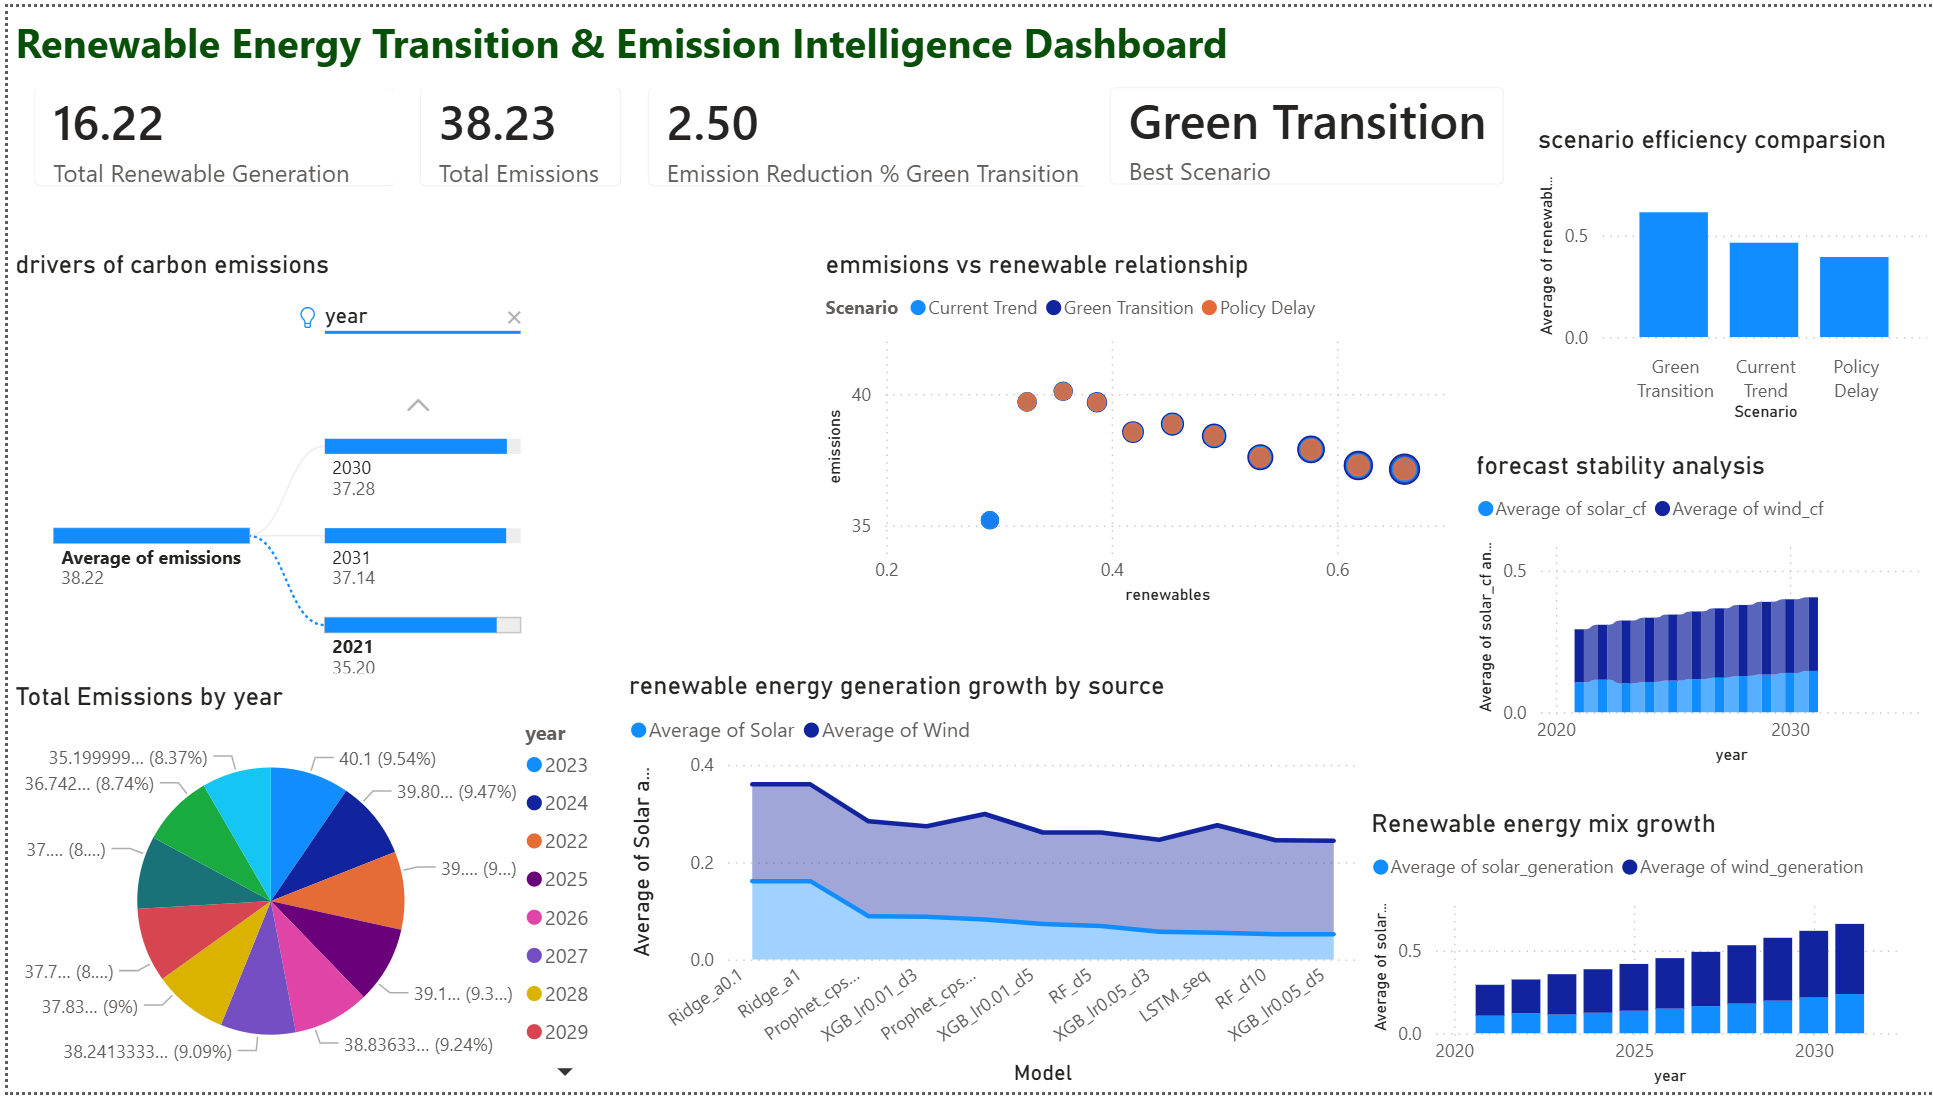

What the dashboard file says about the page in this screenshot:
{"tool":"powerbi","page":{"name":"Page 1","canvas":[1280,720],"ordinal":0},"visuals":[{"type":"cardVisual","fields":{"Data":["current_trend_forecast.Total Renewable Generation"]},"box":[0,36,274,100],"z":0},{"type":"cardVisual","fields":{"Data":["current_trend_forecast.Total Emissions"]},"box":[256,36,168,100],"z":1000},{"type":"columnChart","title":"Renewable energy mix growth","fields":{"Category":["current_trend_forecast.year"],"Y":["Avg(current_trend_forecast.solar_generation)","Avg(current_trend_forecast.wind_generation)"]},"box":[925.6,532.2,344.4,187.8],"z":2000},{"type":"scatterChart","title":"emmisions vs renewable relationship","fields":{"X":["current_trend_forecast.renewables"],"Y":["current_trend_forecast.emissions"],"Series":["powerbi.Scenario"],"Size":["Avg(powerbi.solar_generation)"]},"box":[538,160,432,240],"z":3000},{"type":"clusteredColumnChart","title":"scenario efficiency comparsion","fields":{"Category":["powerbi.Scenario"],"Y":["Avg(powerbi.renewables)"]},"box":[1011.1,77.8,268.9,201.1],"z":4000},{"type":"cardVisual","fields":{"Data":["current_trend_forecast.Emission Reduction %"]},"box":[407.8,35.6,357.8,100],"z":5000},{"type":"ribbonChart","title":"forecast stability analysis","fields":{"Category":["current_trend_forecast.year"],"Y":["Avg(current_trend_forecast.solar_cf)","Avg(current_trend_forecast.wind_cf)"]},"box":[983.3,293.3,296.7,195.6],"z":6000},{"type":"pieChart","fields":{"Category":["current_trend_forecast.year"],"Y":["current_trend_forecast.Total Emissions"]},"box":[0,545,353.3,175],"z":7000},{"type":"stackedAreaChart","title":"renewable energy generation growth by source","fields":{"Category":["current_trend_forecast.year"],"Y":["Avg(current_trend_forecast.solar_cf)","Avg(current_trend_forecast.wind_cf)"]},"box":[456,440,368,280],"z":8000},{"type":"textbox","box":[0,0,862,54],"z":9000},{"type":"decompositionTreeVisual","title":"drivers of carbon emissions","fields":{"Analyze":["Avg(current_trend_forecast.emissions)"],"ExplainBy":["current_trend_forecast.year"]},"box":[0,160.3,469,286.8],"z":10000},{"type":"cardVisual","fields":{"Data":["current_trend_forecast.Best Scenario"]},"box":[714,35.9,296.8,99.6],"z":11000}]}

Visuals, with their boxes in screenshot pixels (x1, y1, x2, y2), scaled from the page's 1280x720 canvas onto the 1933x1099 screenshot:
cardVisual - current_trend_forecast.Total Renewable Generation: bbox=[0, 55, 414, 208]
cardVisual - current_trend_forecast.Total Emissions: bbox=[387, 55, 640, 208]
"Renewable energy mix growth" columnChart: bbox=[1398, 812, 1918, 1098]
"emmisions vs renewable relationship" scatterChart: bbox=[812, 244, 1465, 611]
"scenario efficiency comparsion" clusteredColumnChart: bbox=[1527, 119, 1932, 426]
cardVisual - current_trend_forecast.Emission Reduction %: bbox=[616, 54, 1156, 207]
"forecast stability analysis" ribbonChart: bbox=[1485, 448, 1932, 746]
pieChart - current_trend_forecast.year x current_trend_forecast.Total Emissions: bbox=[0, 832, 534, 1098]
"renewable energy generation growth by source" stackedAreaChart: bbox=[689, 672, 1244, 1098]
textbox: bbox=[0, 0, 1302, 82]
"drivers of carbon emissions" decompositionTreeVisual: bbox=[0, 245, 708, 682]
cardVisual - current_trend_forecast.Best Scenario: bbox=[1078, 55, 1526, 207]
